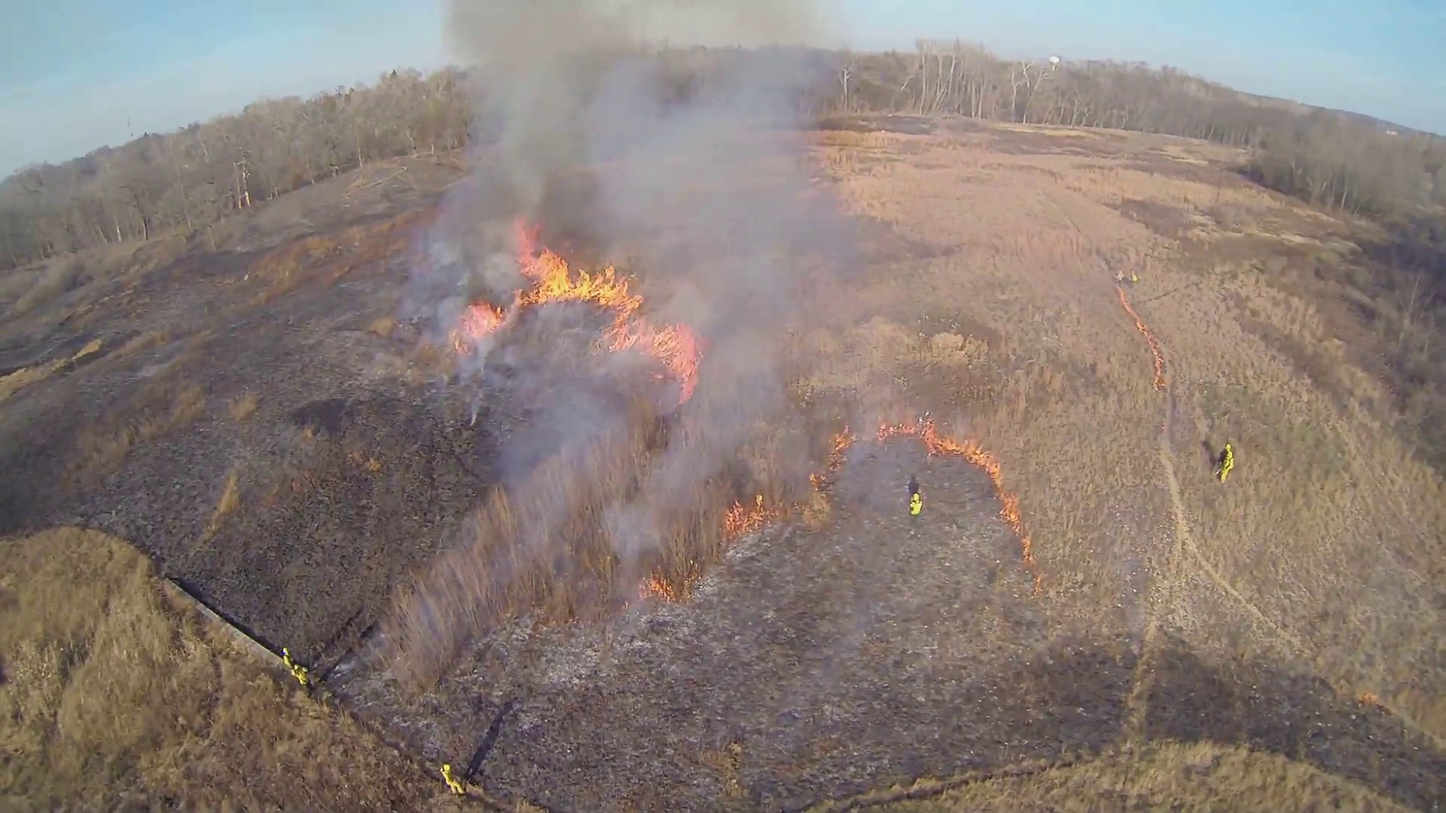forest_fire: (453, 223, 701, 403), (874, 416, 1042, 592), (1117, 291, 1167, 391), (725, 497, 776, 534), (827, 427, 858, 470)
